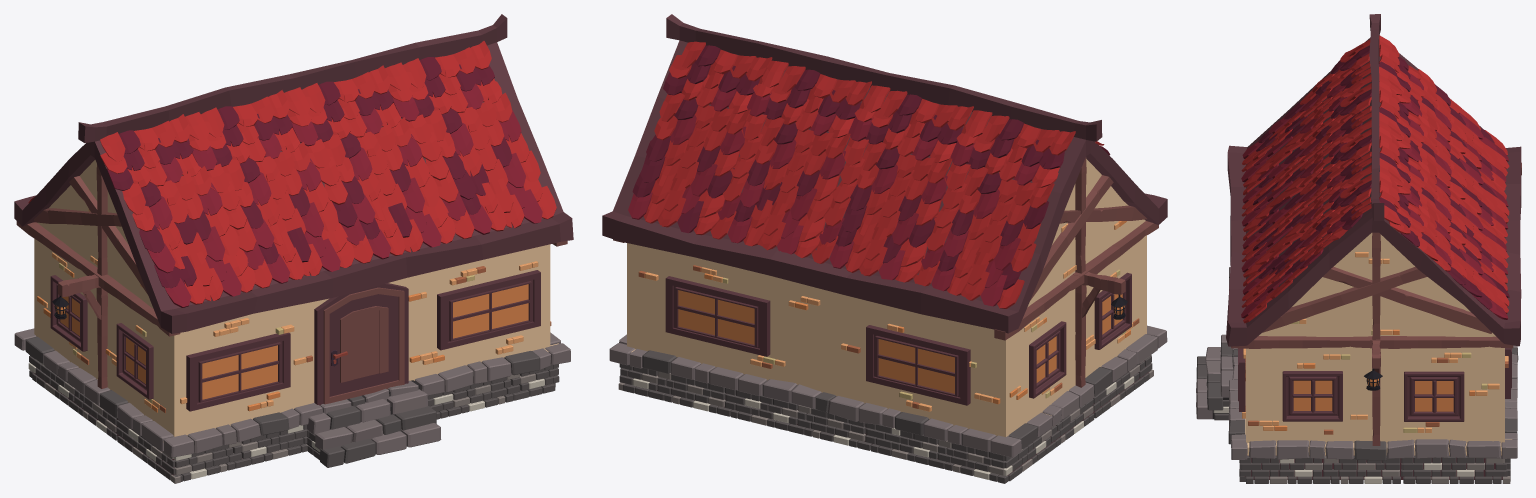
Rendered from casa-pedra10.fbx.
3 views of the same model, side by side, from view 1: azimuth 30°, elevation 25°; view 2: azimuth 150°, elevation 25°; view 3: azimuth 270°, elevation 25° (orthographic). The views are drawn at different scales.
Visible parts, largest first — view 1: Plane.009, Plane.008; view 2: Plane.009; view 3: Plane.009.
Boxes of the visible parts, box(x1,y1,x2,y2) form: Plane.009: box(14, 14, 573, 483); Plane.008: box(323, 287, 404, 404); Plane.009: box(602, 14, 1167, 483); Plane.009: box(1196, 14, 1521, 483).
Size of the model in its own units: 736 by 461 by 469.
